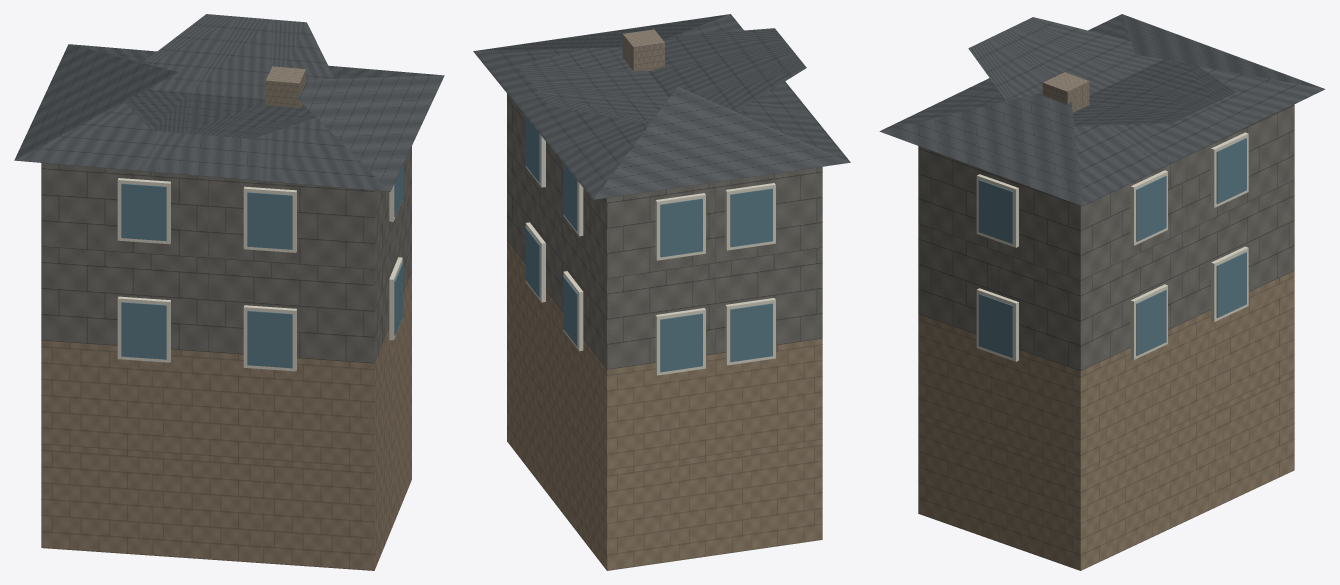
File: core_0032.gltf
3 renders of one model, left to right at view 1: azimuth 30°, elevation 25°; view 2: azimuth 150°, elevation 25°; view 3: azimuth 270°, elevation 25°, orthographic. The views are drawn at different scales.
Parts seen in each view (by area): view 1: core_0032; view 2: core_0032; view 3: core_0032.
Part boxes in pixels (x1=…): core_0032: x1=14, y1=14, x2=444, y2=570; core_0032: x1=473, y1=14, x2=850, y2=570; core_0032: x1=879, y1=14, x2=1325, y2=570.
Bounding box in the file's own units: 10.32 × 10.65 × 10.11.
Materials: 6 (6 with a texture image).
